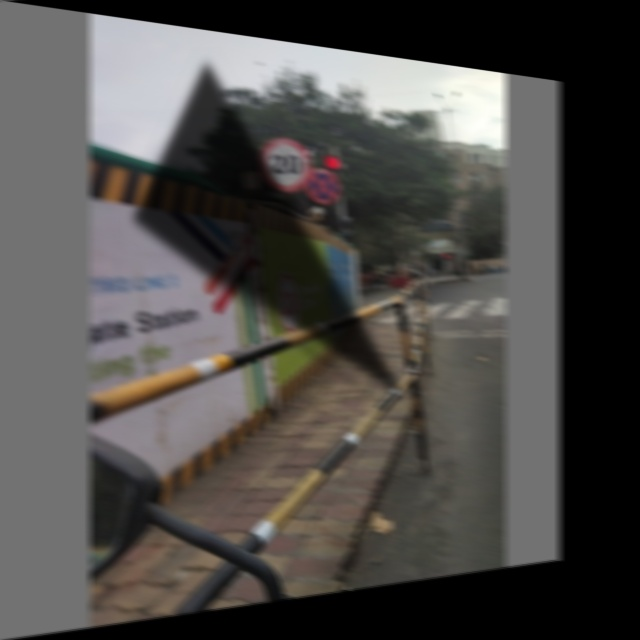Speed_Limit_20: (256, 135, 310, 190)
